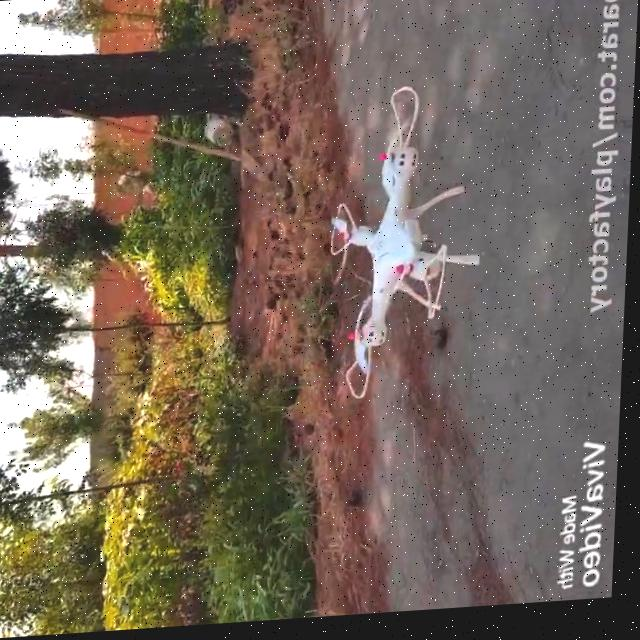drone: (327, 85, 490, 403)
